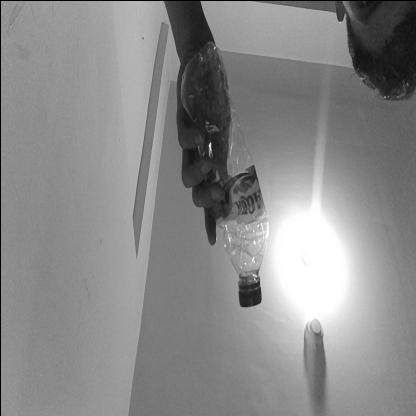plastic_bottles: (179, 41, 269, 312)
